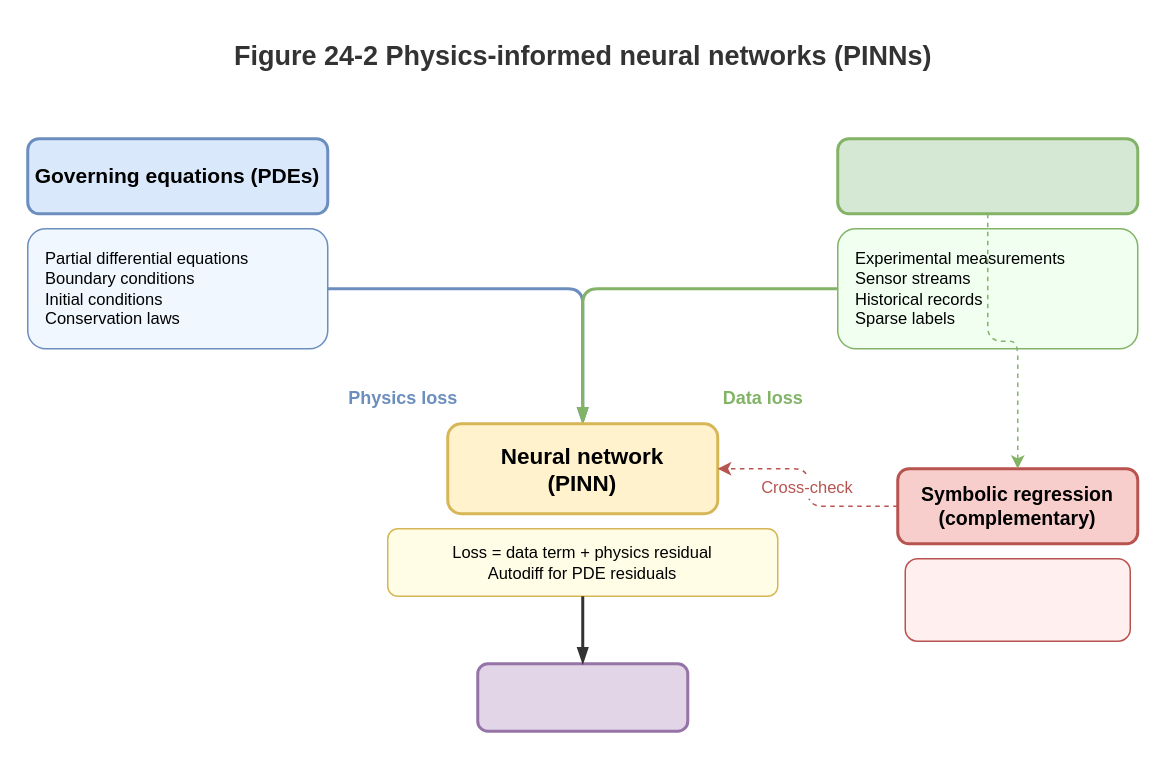
Some shapes in this 1164 by 758 pixel diagram are drawn without their labels. The centre of each missing label's shape, as x and y in pixels:
Discover symbolic equations from data (interpretable formulas): [1017,599]
Observational data: [987,175]
Physical field prediction: [582,697]
